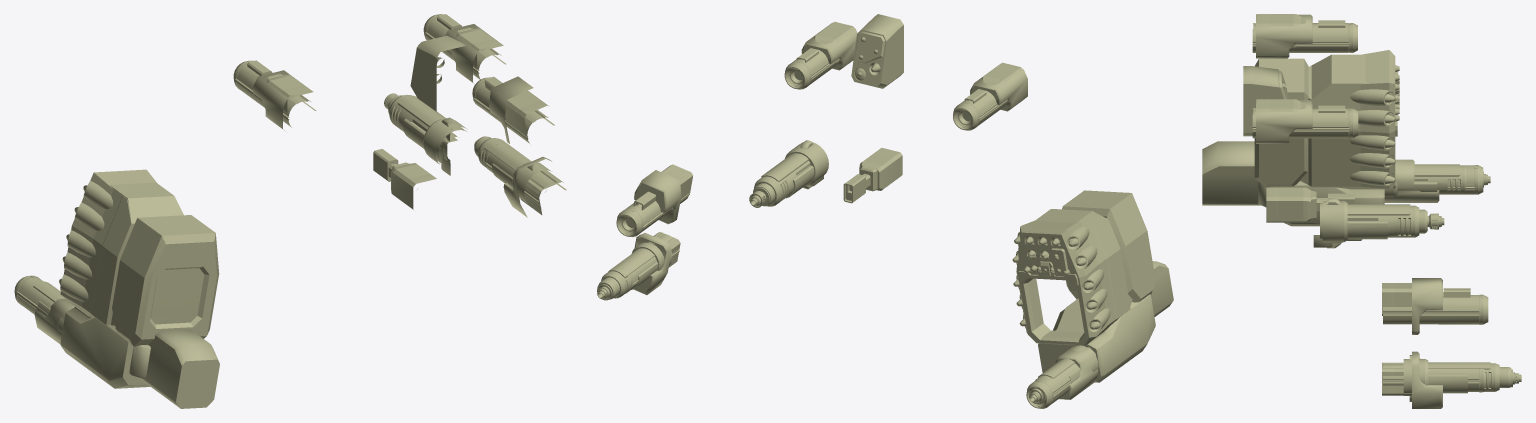
File: CataphractWeapons.glb
3 renders of one model, left to right at view 1: azimuth 30°, elevation 25°; view 2: azimuth 150°, elevation 25°; view 3: azimuth 270°, elevation 25°, orthographic. The views are drawn at different scales.
Visible parts, largest first — view 1: Forearm_Left_MH1_Missile15, Forearm_Left_MH1_Missile10, Forearm_Left_EH1_Laser, Forearm_Left_BH1_AC5, Forearm_Left_BH1_AC10, Torso_Right_BH1_AC20, Forearm_Left_EH1_PPC, Torso_Left_EH1_PPC, Head_MH1_Missile2, Forearm_Right_EH2_PPC, Forearm_Right_BH1_AC10, Torso_Right_EH1_PPC (+10 smaller); view 2: Forearm_Left_MH1_Missile15, Head_MH1_Missile2, Forearm_Left_MH1_Missile10, Forearm_Left_EH1_PPC, Torso_Right_BH1_AC20, Forearm_Right_EH2_PPC, Forearm_Left_BH1_AC5, Torso_Left_EH1_PPC, Torso_Right_EH1_PPC, Forearm_Left_BH1_AC10, Forearm_Right_BH1_AC10, Forearm_Left_MH1_Missile4 (+8 smaller); view 3: Forearm_Left_MH1_Missile20, Forearm_Left_MH1_Missile10, Forearm_Left_EH1_PPC, Torso_Right_BH1_AC20, Forearm_Right_EH2_PPC, Torso_Right_EH1_PPC, Torso_Left_EH1_PPC, Forearm_Right_BH1_AC10, Forearm_Right_EH1_PPC, Head_MH1_Missile2, Forearm_Left_BH1_AC10, Torso_Center_EH1_Flamer (+10 smaller).
Boxes of the visible parts, x1=… form: Forearm_Left_MH1_Missile15: x1=59, y1=173, x2=216, y2=346; Forearm_Left_MH1_Missile10: x1=86, y1=182, x2=219, y2=339; Forearm_Left_EH1_Laser: x1=109, y1=341, x2=219, y2=408; Forearm_Left_BH1_AC5: x1=60, y1=306, x2=177, y2=388; Forearm_Left_BH1_AC10: x1=33, y1=280, x2=181, y2=401; Torso_Right_BH1_AC20: x1=388, y1=94, x2=467, y2=175; Forearm_Left_EH1_PPC: x1=14, y1=275, x2=210, y2=346; Torso_Left_EH1_PPC: x1=233, y1=60, x2=316, y2=131; Head_MH1_Missile2: x1=410, y1=35, x2=465, y2=115; Forearm_Right_EH2_PPC: x1=472, y1=76, x2=554, y2=143; Forearm_Right_BH1_AC10: x1=474, y1=136, x2=551, y2=203; Torso_Right_EH1_PPC: x1=423, y1=14, x2=506, y2=85; Forearm_Left_MH1_Missile15: x1=1017, y1=193, x2=1155, y2=345; Head_MH1_Missile2: x1=851, y1=14, x2=903, y2=88; Forearm_Left_MH1_Missile10: x1=1020, y1=190, x2=1131, y2=344; Forearm_Left_EH1_PPC: x1=1026, y1=261, x2=1155, y2=408; Torso_Right_BH1_AC20: x1=753, y1=140, x2=828, y2=206; Forearm_Right_EH2_PPC: x1=616, y1=170, x2=689, y2=237; Forearm_Left_BH1_AC5: x1=1029, y1=299, x2=1155, y2=403; Torso_Left_EH1_PPC: x1=953, y1=64, x2=1027, y2=130; Torso_Right_EH1_PPC: x1=784, y1=22, x2=857, y2=89; Forearm_Left_BH1_AC10: x1=1031, y1=261, x2=1173, y2=404; Forearm_Right_BH1_AC10: x1=597, y1=238, x2=672, y2=299; Forearm_Left_MH1_Missile4: x1=1018, y1=244, x2=1113, y2=345; Forearm_Left_MH1_Missile20: x1=1254, y1=50, x2=1399, y2=189; Forearm_Left_MH1_Missile10: x1=1255, y1=54, x2=1399, y2=186; Forearm_Left_EH1_PPC: x1=1202, y1=141, x2=1483, y2=222; Torso_Right_BH1_AC20: x1=1313, y1=198, x2=1426, y2=247; Forearm_Right_EH2_PPC: x1=1383, y1=278, x2=1488, y2=334; Torso_Right_EH1_PPC: x1=1252, y1=100, x2=1358, y2=143; Torso_Left_EH1_PPC: x1=1252, y1=14, x2=1357, y2=58; Forearm_Right_BH1_AC10: x1=1403, y1=359, x2=1511, y2=395; Forearm_Right_EH1_PPC: x1=1383, y1=351, x2=1485, y2=408; Head_MH1_Missile2: x1=1243, y1=66, x2=1288, y2=136; Forearm_Left_BH1_AC10: x1=1384, y1=162, x2=1466, y2=197; Torso_Center_EH1_Flamer: x1=1279, y1=187, x2=1354, y2=221.
Size of the model in its own units: 1.85 by 1.01 by 1.08.
